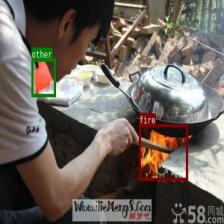fire: (138, 124, 188, 180)
